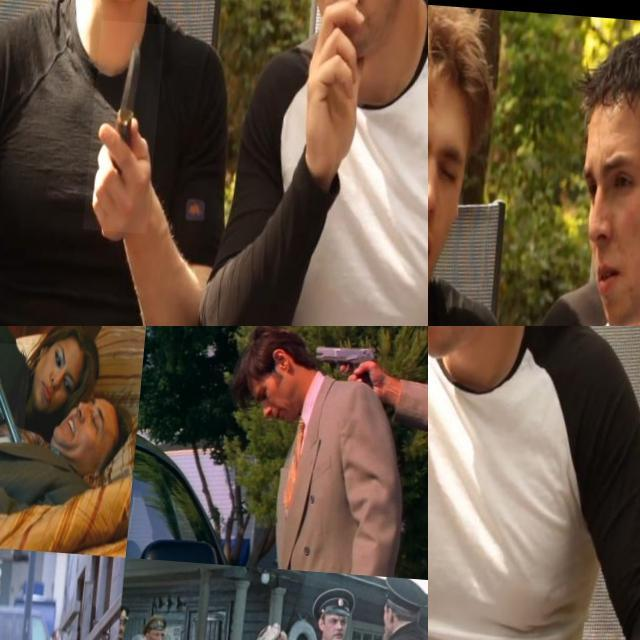-: (92, 18, 171, 230), (428, 501, 464, 640)
gun-knife-thesis - v11 Yolov5 augmented: (310, 330, 383, 400), (0, 337, 42, 444)
